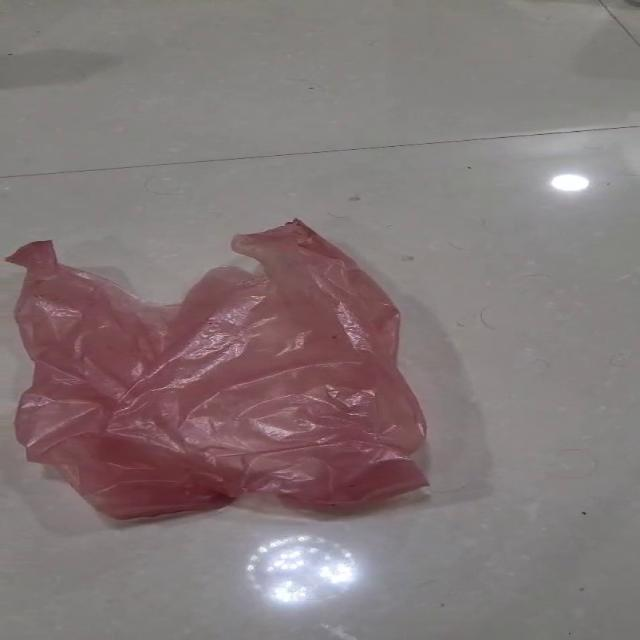plastic: (4, 217, 430, 520)
